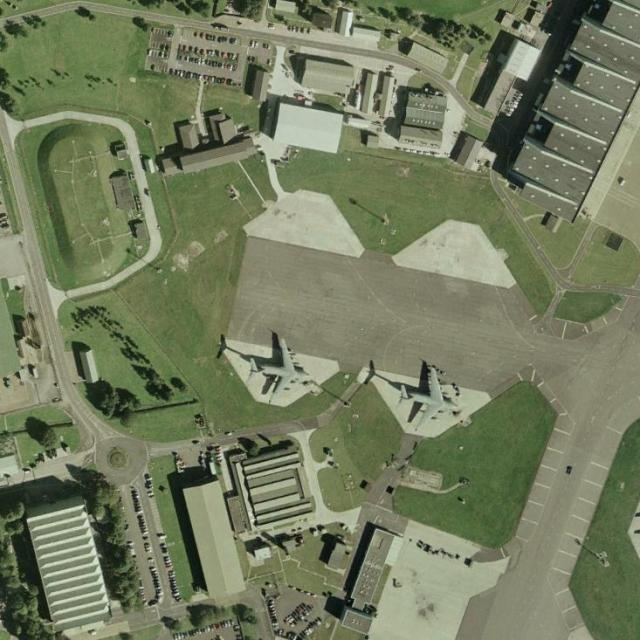fighter jet: (248, 336, 311, 403), (398, 363, 462, 426)
